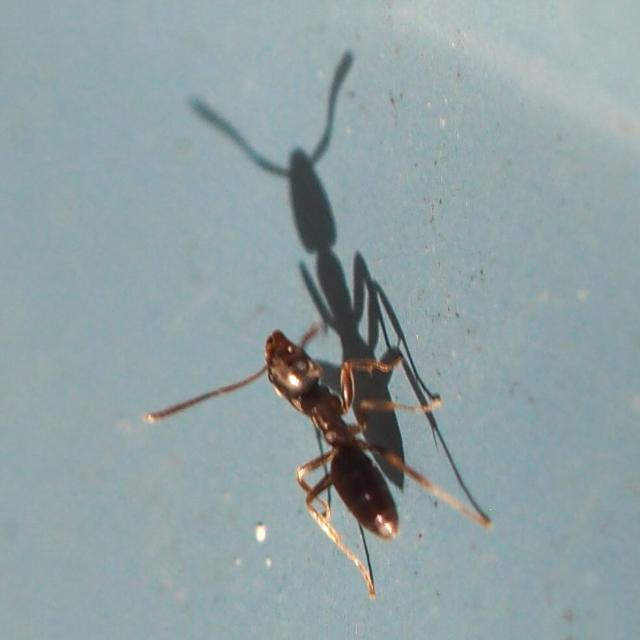Tapinoma: (208, 290, 462, 580)
